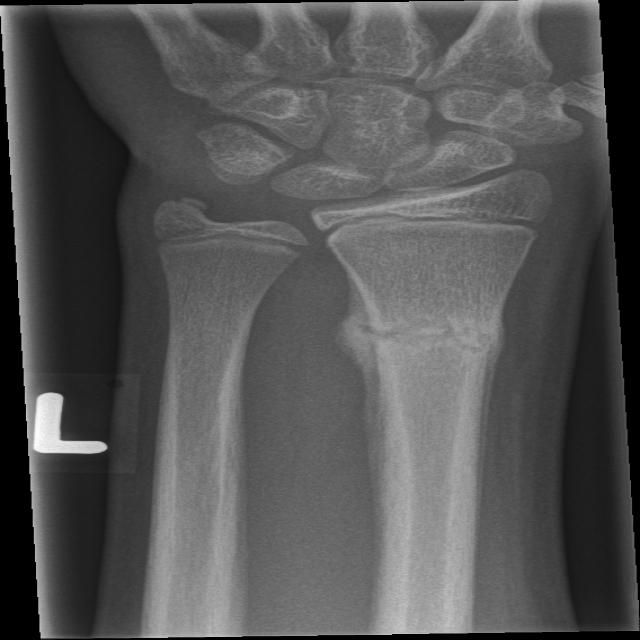radius fracture: (324, 273, 526, 408)
